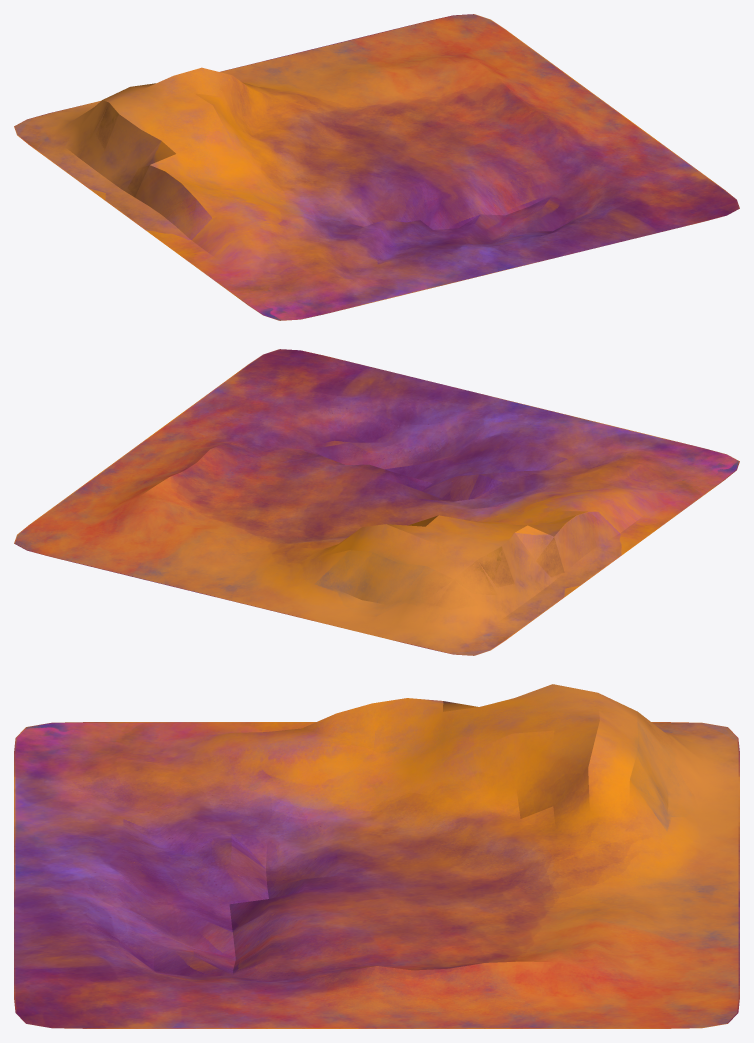
File: ground.glb
3 views of the same model, one above another, from view 1: azimuth 30°, elevation 25°; view 2: azimuth 150°, elevation 25°; view 3: azimuth 270°, elevation 25° (orthographic). The views are drawn at different scales.
Parts seen in each view (by area): view 1: Grid; view 2: Grid; view 3: Grid.
Part boxes in pixels (x1,y1,x2,y2): Grid: (14,14,739,320); Grid: (14,349,739,655); Grid: (14,684,739,1028).
Size of the model in its own units: 4 by 0.7311 by 4.
Materials: 1 (1 with a texture image).
